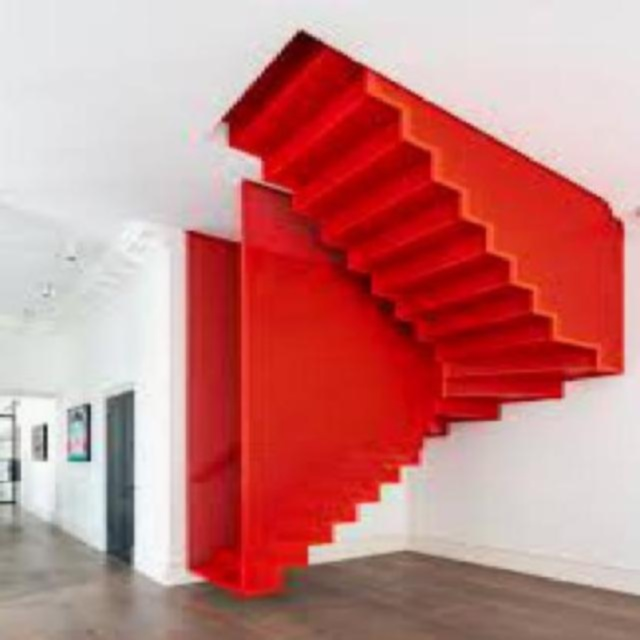stair: (176, 40, 638, 597)
